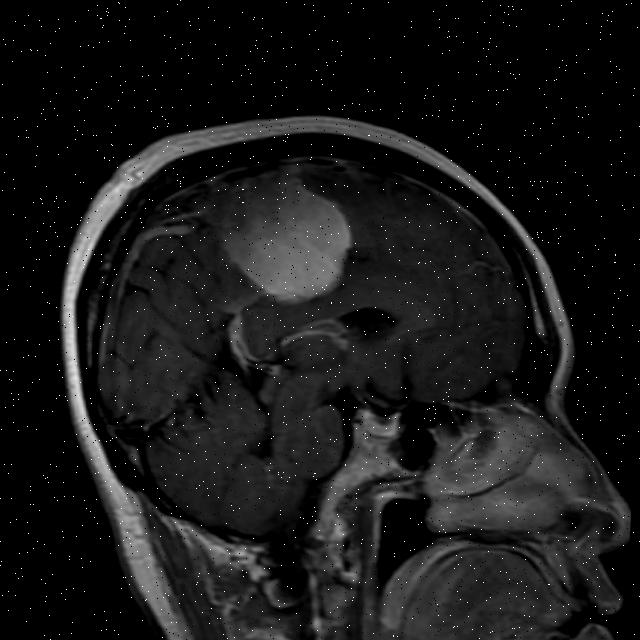Meningioma: (220, 171, 356, 310)
